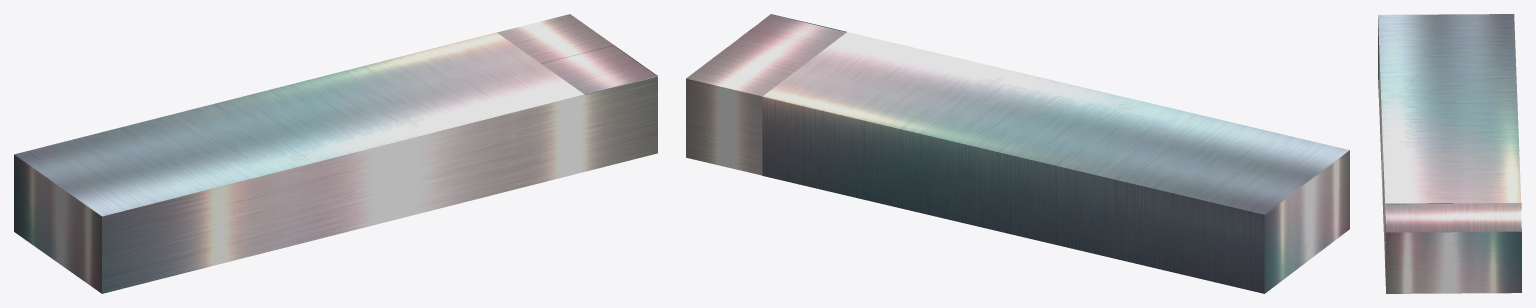
Rendered from sofastand1.glb.
3 renders of one model, left to right at view 1: azimuth 30°, elevation 25°; view 2: azimuth 150°, elevation 25°; view 3: azimuth 270°, elevation 25°, orthographic. The views are drawn at different scales.
Parts seen in each view (by area): view 1: Cube; view 2: Cube; view 3: Cube.
Part boxes in pixels (x1,y1,x2,y2): Cube: (14,14,657,293); Cube: (686,14,1349,293); Cube: (1378,14,1521,293).
Size of the model in its own units: 9.48 by 1.25 by 2.64.
Materials: 1 (1 with a texture image).
